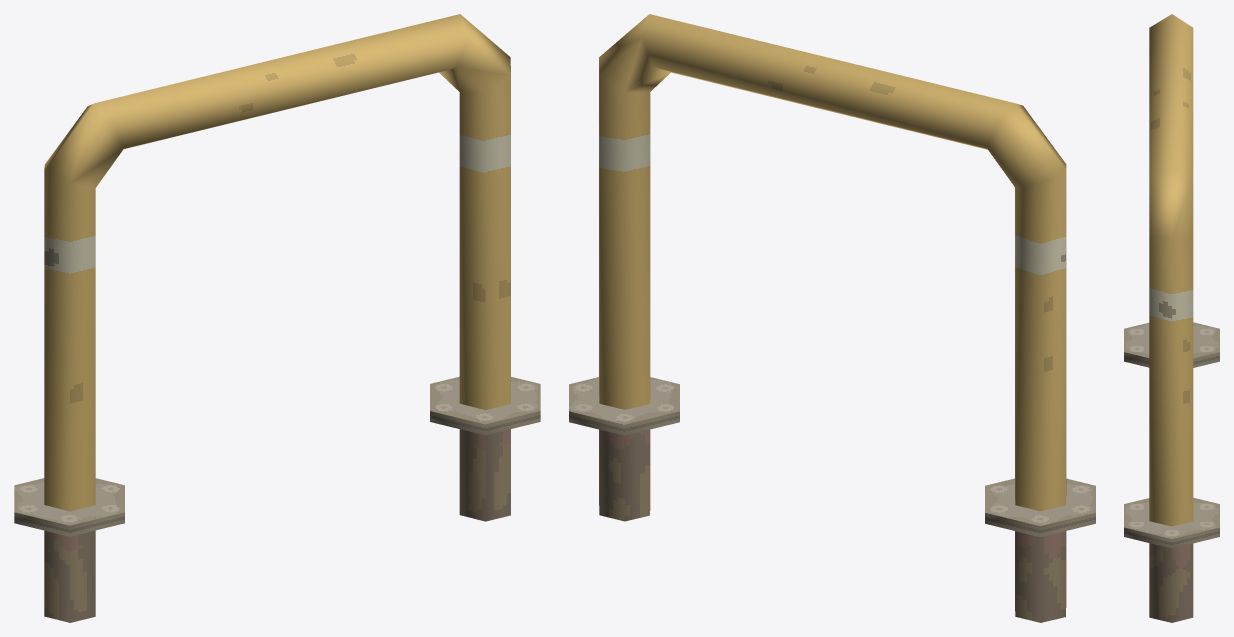
The model's file is 0175_Sidewalk_Marker.glb.
3 renders of one model, left to right at view 1: azimuth 30°, elevation 25°; view 2: azimuth 150°, elevation 25°; view 3: azimuth 270°, elevation 25°, orthographic. The views are drawn at different scales.
Visible parts, largest first — view 1: part_0; view 2: part_0; view 3: part_0.
Part boxes in pixels (x1,y1,x2,y2): part_0: [14, 14, 540, 622]; part_0: [569, 14, 1095, 622]; part_0: [1124, 14, 1219, 622].
Size of the model in its own units: 1.21 by 1.1 by 0.2207.
Materials: 1 (1 with a texture image).
